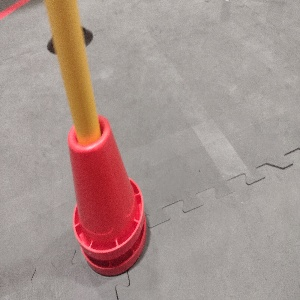Red_2: (66, 116, 147, 277)
